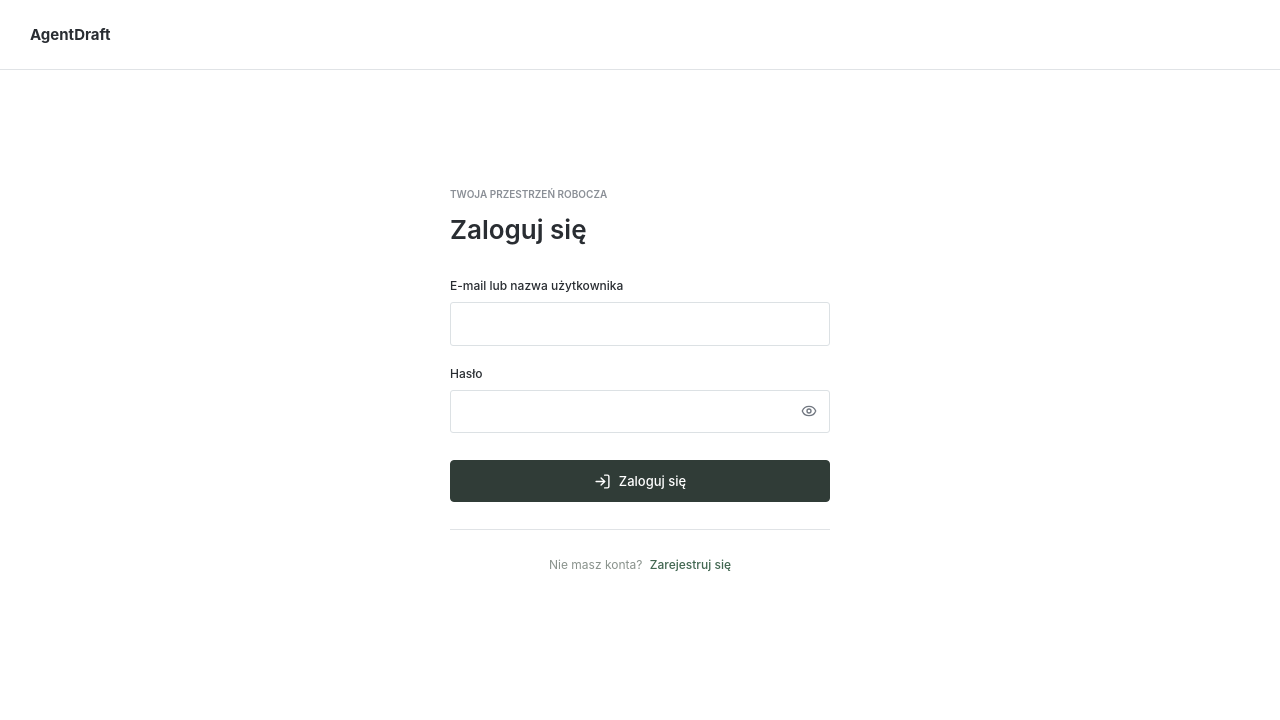
application → hooks → API client → HTTP › logs in, loads persistent dashboard data and logs out through the server
The image size is (1280, 720).
Expected: the heading "Zaloguj się" is shown, [450,214,586,245]
Type "writer1" into the field labelled "E-mail lub nazwa użytkownika" at {"x": 640, "y": 324}, box [450,302,830,346]
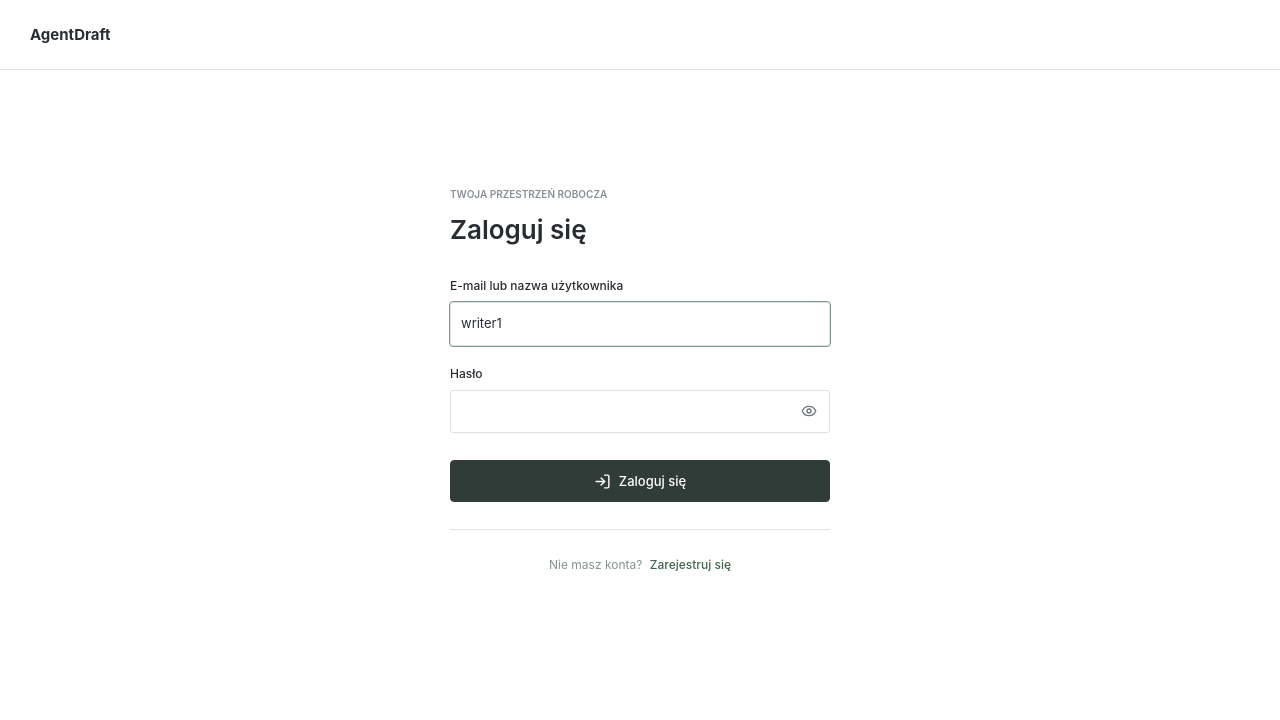
Type "test-password" into the password field labelled "Hasło" at {"x": 640, "y": 411}, box [450,390,830,433]
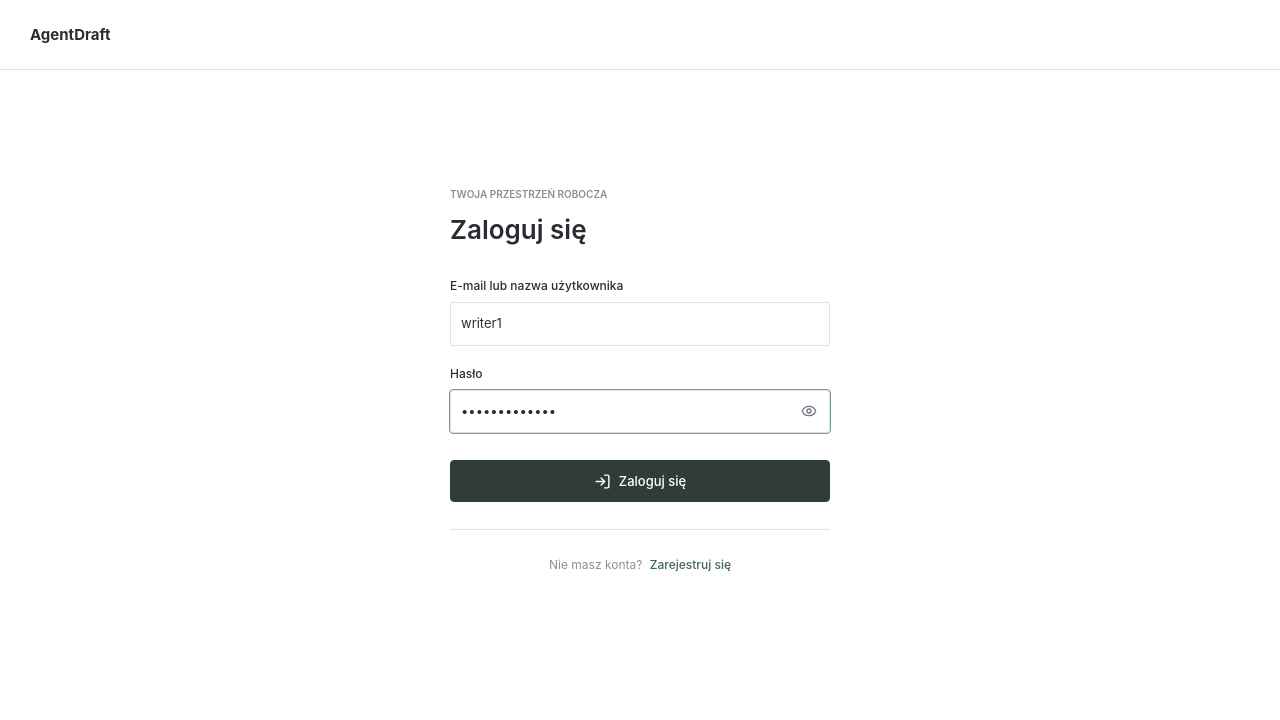
Click the button "Zaloguj się" at {"x": 640, "y": 481}, box [450,460,830,502]
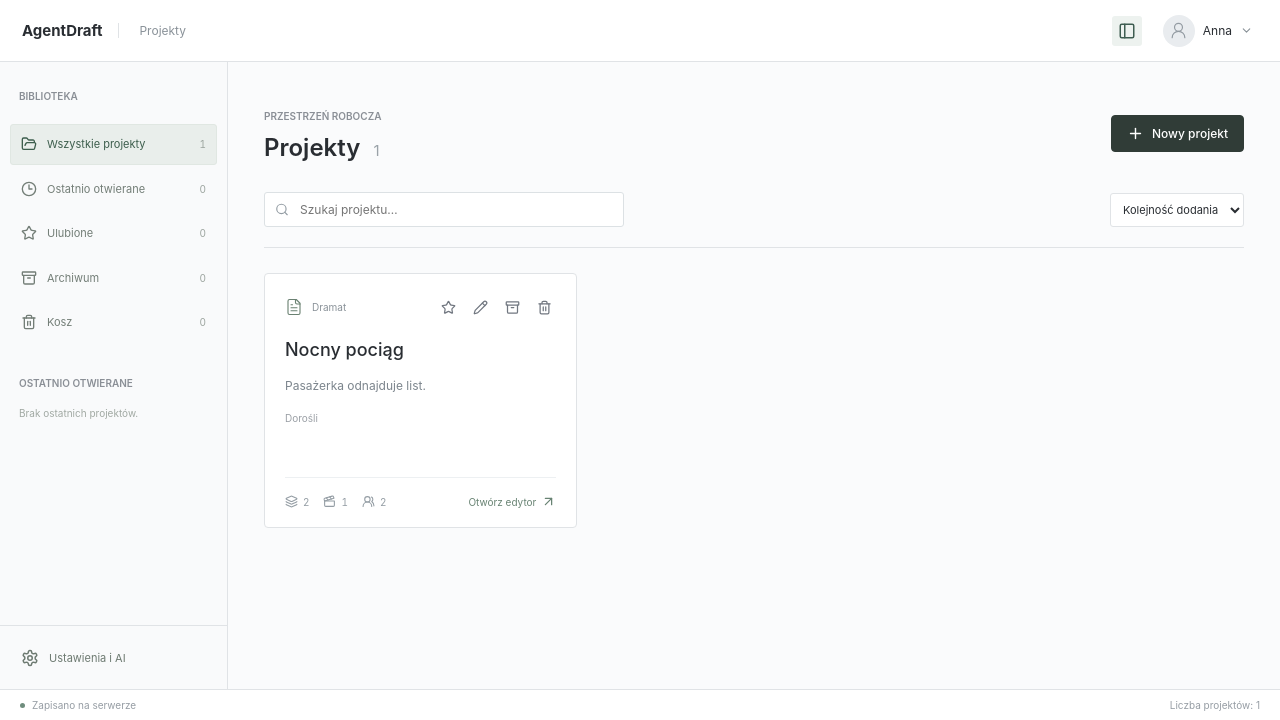
Expected: the element "Nocny pociąg" is shown, [264,273,577,528]
Click the button with aria-label "Menu użytkownika: Anna" at {"x": 1208, "y": 30}, box [1158,12,1258,50]
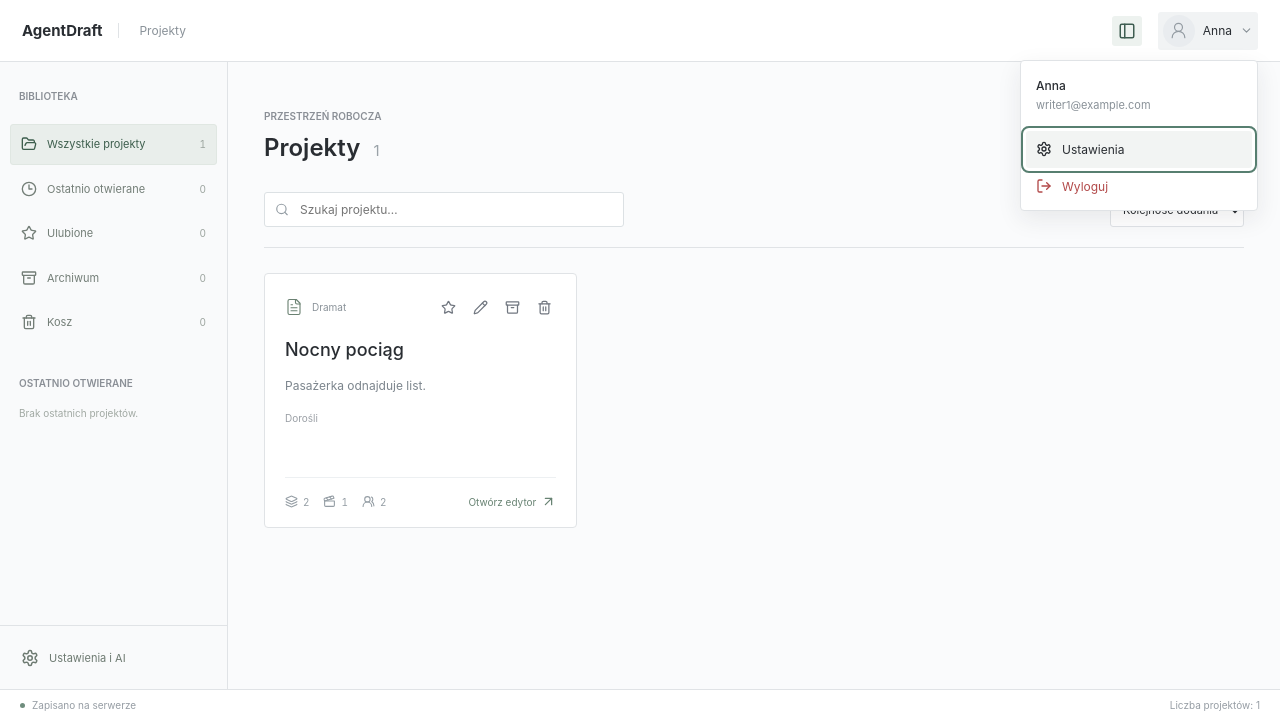
Click the menu item "Wyloguj" at {"x": 1139, "y": 186}, box [1026,168,1252,204]
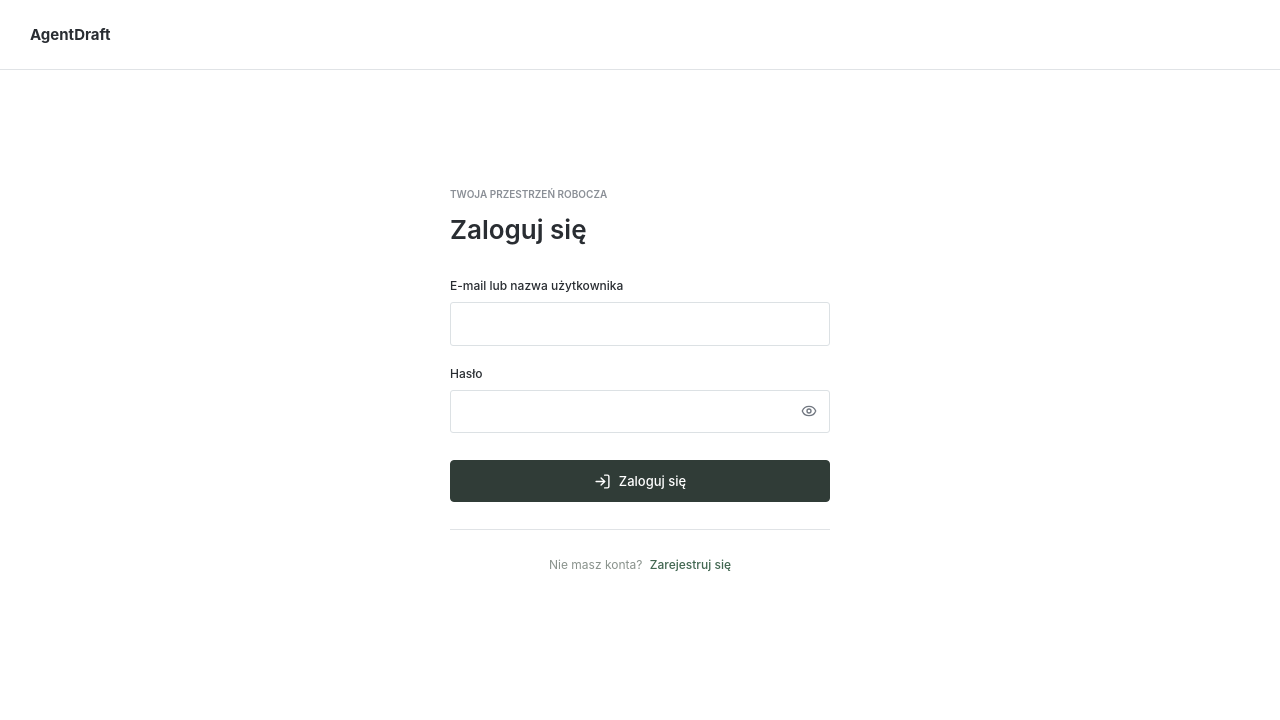
Expected: the heading "Zaloguj się" is shown, [450,214,586,245]
